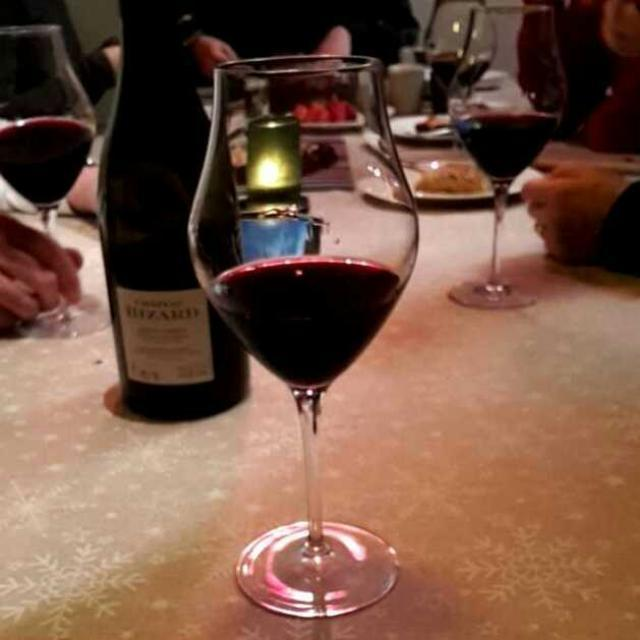wine: (217, 260, 400, 385)
